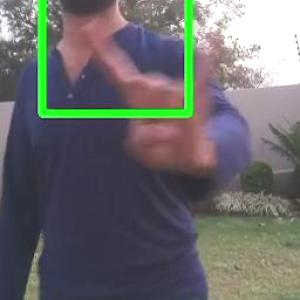takeoff-hand: (69, 18, 247, 174)
